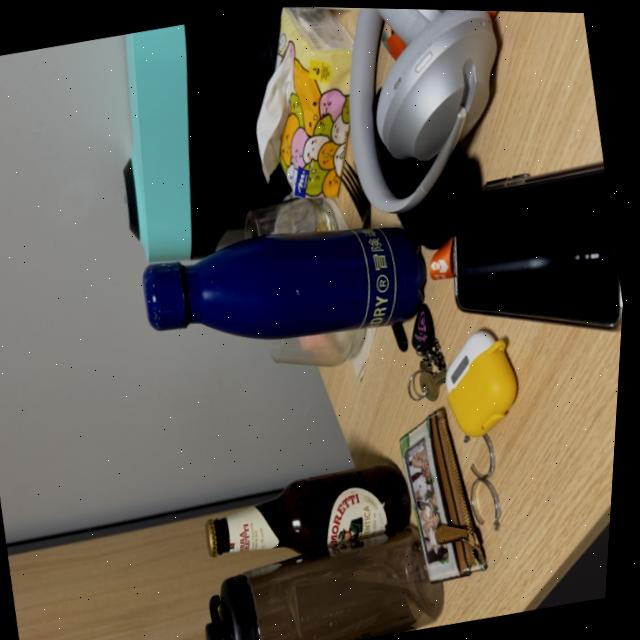beer: (199, 444, 428, 578)
